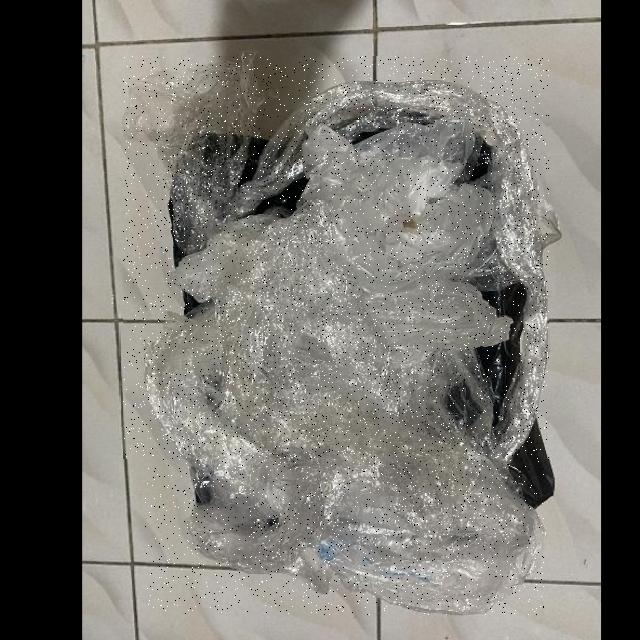plastic: (124, 56, 549, 459), (145, 310, 544, 615), (206, 213, 417, 452), (302, 115, 514, 351)
